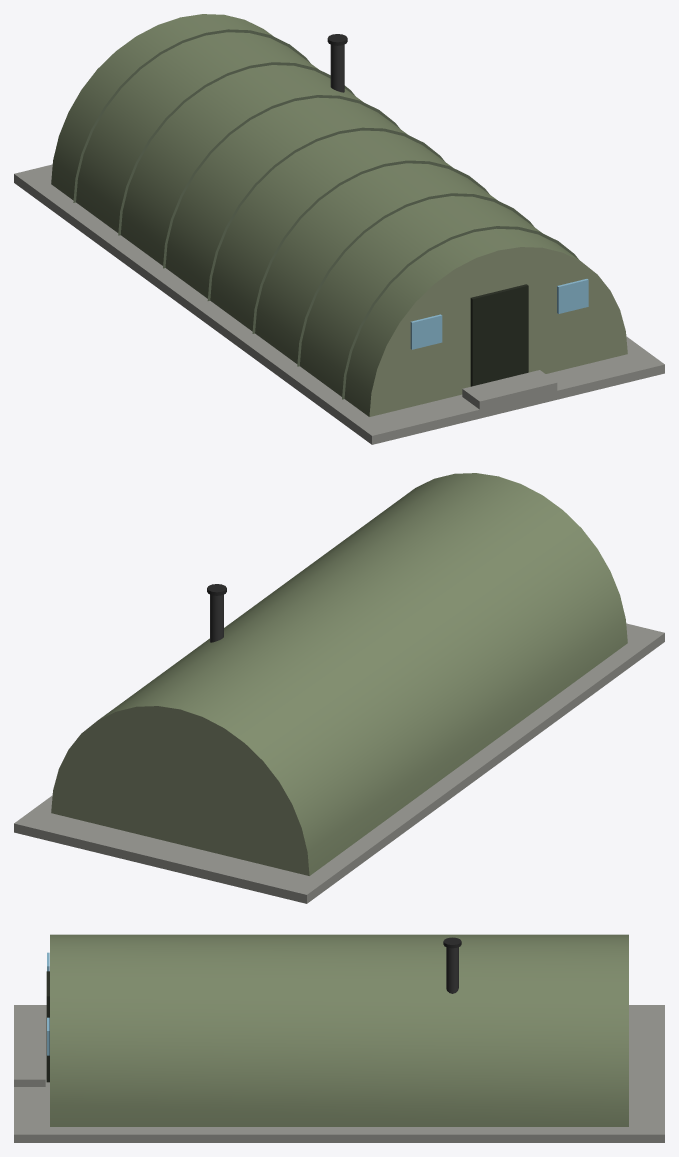
File: barracks_hut.glb
3 renders of one model, top to bottom at view 1: azimuth 30°, elevation 25°; view 2: azimuth 150°, elevation 25°; view 3: azimuth 270°, elevation 25°, orthographic. The views are drawn at different scales.
Parts seen in each view (by area): view 1: barracks_hut; view 2: barracks_hut; view 3: barracks_hut.
Boxes of the visible parts, x1,y1,x2,y2 form: barracks_hut: (14,14,664,444); barracks_hut: (14,473,664,903); barracks_hut: (14,934,664,1142).
Size of the model in its own units: 6.8 by 3.99 by 14.4.
